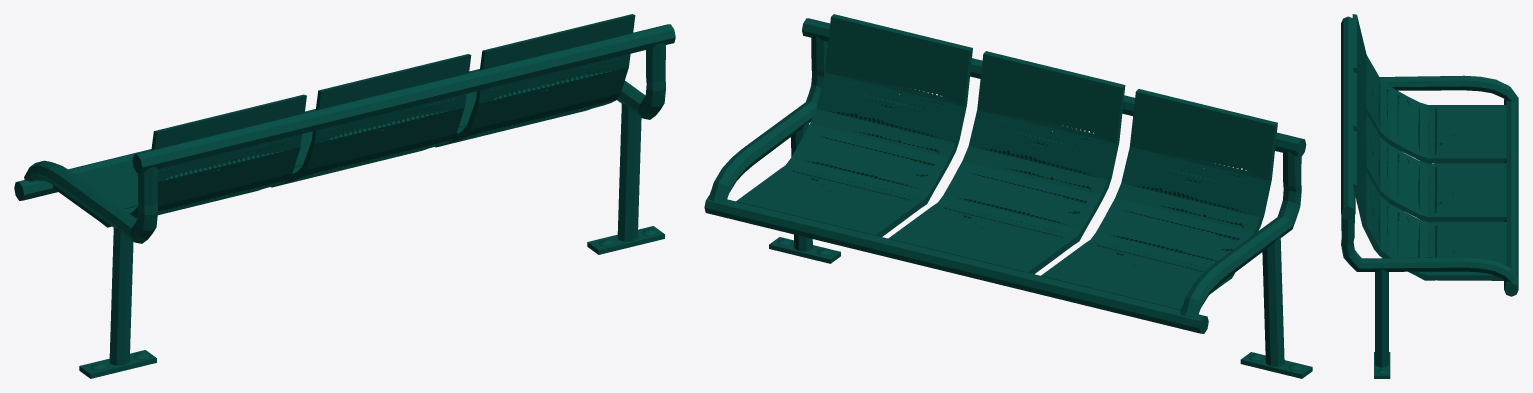
File: metal chair.fbx
The picture shows the model from 3 angles, left to right: view 1: azimuth 30°, elevation 25°; view 2: azimuth 150°, elevation 25°; view 3: azimuth 270°, elevation 25°; orthographic projection. The views are drawn at different scales.
Visible parts, largest first — view 1: Green chair side bar.003; view 2: Green chair side bar.003; view 3: Green chair side bar.003.
Part boxes in pixels (left/top/right/bottom): Green chair side bar.003: left=14, top=14, right=675, bottom=378; Green chair side bar.003: left=704, top=14, right=1312, bottom=378; Green chair side bar.003: left=1341, top=14, right=1518, bottom=378.
Bounding box in the file's own units: 546 × 223 × 201.
